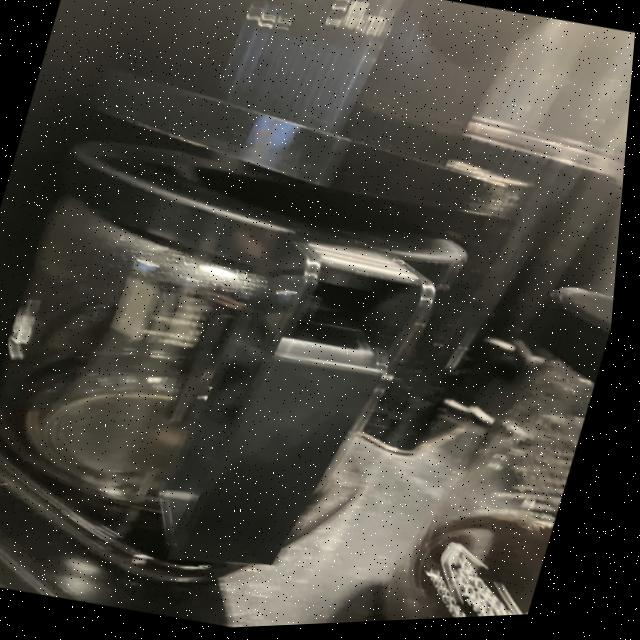nocoffee: (0, 113, 484, 594)
